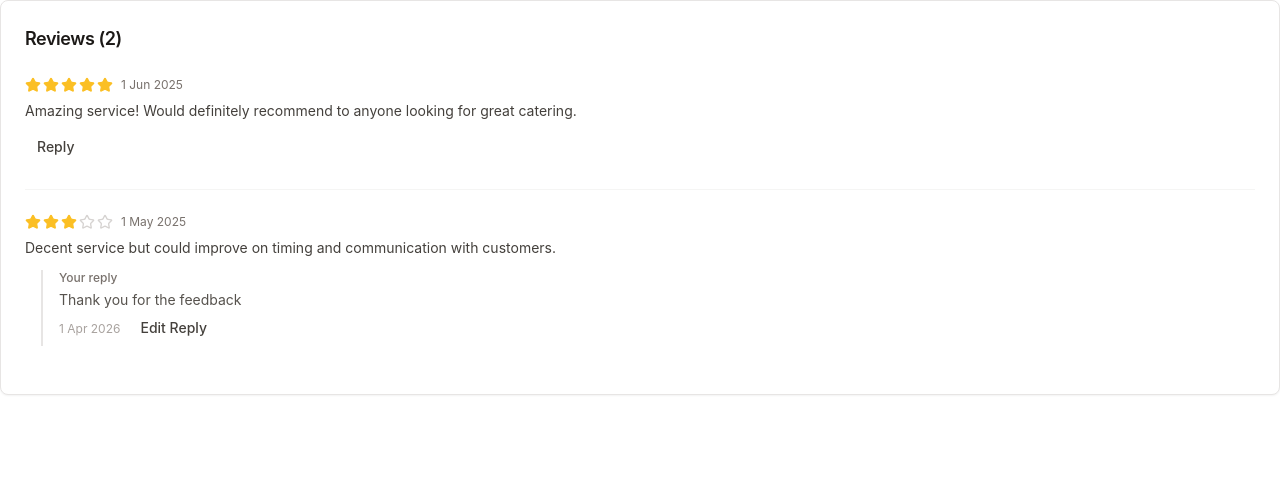
Test: ReviewsManager › opens reply form on click
Click the button "Reply". click: (56, 147)
box: [25,129,86,165]
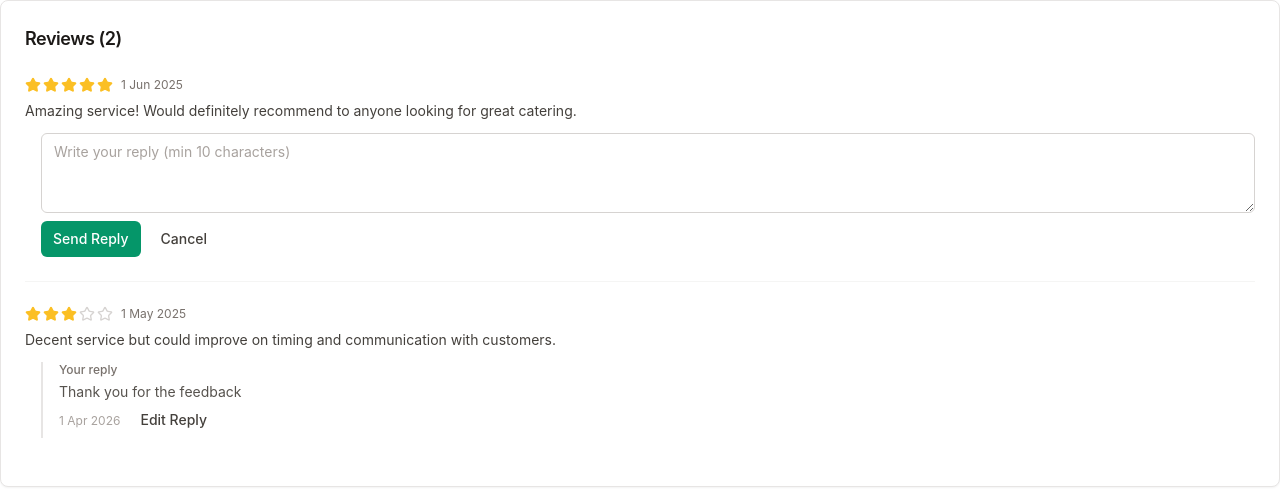
Expected: the text box with placeholder "Write your reply (min 10 characters)" is shown, [41,133,1255,213]
